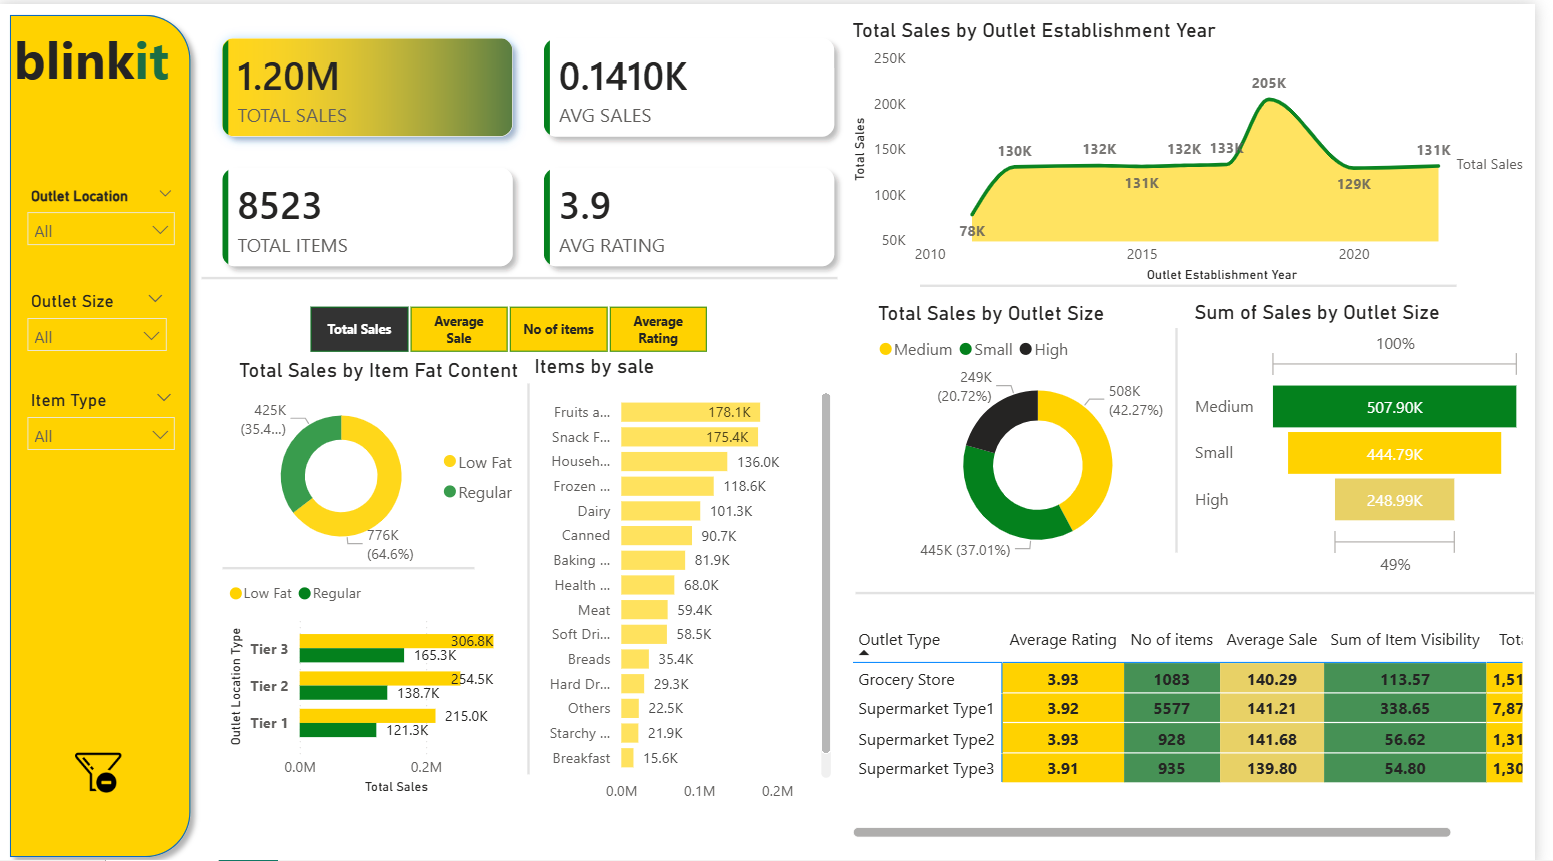

The dashboard page shown, as its layout file describes it:
{"tool":"powerbi","page":{"name":"Page 1","canvas":[1280,720],"ordinal":0},"visuals":[{"type":"shape","box":[0,0,168.6,720],"z":0},{"type":"textbox","box":[7.8,11.1,161.1,126.7],"z":1000},{"type":"cardVisual","fields":{"Data":["BlinkIT Grocery Data.Total Sales","BlinkIT Grocery Data.Average Sale","BlinkIT Grocery Data.No of items","BlinkIT Grocery Data.Average Rating"]},"box":[168.9,11.1,545.6,224.4],"z":2000},{"type":"shape","box":[170,228.6,528.6,474.3],"z":3000},{"type":"slicer","fields":{"Values":["Metrics.Metrics"]},"box":[233.3,244.4,380,50],"z":4000},{"type":"donutChart","fields":{"Y":["BlinkIT Grocery Data.Total Sales"],"Category":["BlinkIT Grocery Data.Item Fat Content"]},"box":[194.4,294.4,246.7,176.7],"z":5000},{"type":"clusteredBarChart","fields":{"Y":["BlinkIT Grocery Data.Total Sales"],"Category":["BlinkIT Grocery Data.Outlet Location Type"],"Series":["BlinkIT Grocery Data.Item Fat Content"]},"box":[186.7,471.1,244.4,191.1],"z":6000},{"type":"shape","box":[186.7,456.7,210,27.8],"z":7000},{"type":"shape","box":[335.7,315.7,210,325.7],"z":8000},{"type":"barChart","title":"  Items by sale","fields":{"Y":["BlinkIT Grocery Data.Total Sales"],"Category":["BlinkIT Grocery Data.Item Type"]},"box":[441.1,291.1,256.7,382.2],"z":9000},{"type":"lineChart","fields":{"Y":["BlinkIT Grocery Data.Total Sales"],"Category":["BlinkIT Grocery Data.Outlet Establishment Year"]},"box":[705.7,11.4,574.3,224.3],"z":10000},{"type":"shape","box":[767.1,221.4,447.1,27.1],"z":11000},{"type":"donutChart","fields":{"Category":["BlinkIT Grocery Data.Outlet Size"],"Y":["BlinkIT Grocery Data.Total Sales"]},"box":[727.1,247.1,275.7,224.3],"z":12000},{"type":"shape","box":[875.7,270,210,187.1],"z":13000},{"type":"funnel","fields":{"Y":["Sum(BlinkIT Grocery Data.Sales)"],"Category":["BlinkIT Grocery Data.Outlet Size"]},"box":[991.4,245.7,282.9,235.7],"z":14000},{"type":"shape","box":[714.3,484.3,565.7,14.3],"z":15000},{"type":"pivotTable","fields":{"Rows":["BlinkIT Grocery Data.Outlet Type"],"Values":["BlinkIT Grocery Data.Average Rating","BlinkIT Grocery Data.No of items","BlinkIT Grocery Data.Average Sale","Sum(BlinkIT Grocery Data.Item Visibility)","BlinkIT Grocery Data.Total Sales"]},"box":[705.7,511.4,568.6,188.6],"z":16000},{"type":"slicer","fields":{"Values":["BlinkIT Grocery Data.Outlet Location Type"]},"box":[14.3,147.1,142.9,74.3],"z":17000},{"type":"slicer","fields":{"Values":["BlinkIT Grocery Data.Outlet Size"]},"box":[14.3,234.3,135.7,57.1],"z":18000},{"type":"slicer","fields":{"Values":["BlinkIT Grocery Data.Item Type"]},"box":[14.3,315.7,142.9,67.1],"z":19000},{"type":"image","box":[60,621.4,45.7,38.6],"z":20000},{"type":"shape","box":[168.6,221.4,530,14.3],"z":21000}]}

Visuals, with their boxes in screenshot pixels (x1, y1, x2, y2), scaled from the page's 1280x720 canvas onto the 1553x861 screenshot:
shape: crop(0, 0, 205, 860)
textbox: crop(9, 13, 205, 165)
cardVisual - BlinkIT Grocery Data.Total Sales x BlinkIT Grocery Data.Average Sale: crop(205, 13, 867, 282)
shape: crop(206, 273, 848, 841)
slicer - Metrics.Metrics: crop(283, 292, 744, 352)
donutChart - BlinkIT Grocery Data.Total Sales x BlinkIT Grocery Data.Item Fat Content: crop(236, 352, 535, 563)
clusteredBarChart - BlinkIT Grocery Data.Total Sales x BlinkIT Grocery Data.Outlet Location Type: crop(227, 563, 523, 792)
shape: crop(227, 546, 481, 579)
shape: crop(407, 378, 662, 767)
"  Items by sale" barChart: crop(535, 348, 847, 805)
lineChart - BlinkIT Grocery Data.Total Sales x BlinkIT Grocery Data.Outlet Establishment Year: crop(856, 14, 1552, 282)
shape: crop(931, 265, 1473, 297)
donutChart - BlinkIT Grocery Data.Outlet Size x BlinkIT Grocery Data.Total Sales: crop(882, 295, 1217, 564)
shape: crop(1062, 323, 1317, 547)
funnel - Sum(BlinkIT Grocery Data.Sales) x BlinkIT Grocery Data.Outlet Size: crop(1203, 294, 1546, 576)
shape: crop(867, 579, 1552, 596)
pivotTable - BlinkIT Grocery Data.Outlet Type x BlinkIT Grocery Data.Average Rating: crop(856, 612, 1546, 837)
slicer - BlinkIT Grocery Data.Outlet Location Type: crop(17, 176, 191, 265)
slicer - BlinkIT Grocery Data.Outlet Size: crop(17, 280, 182, 348)
slicer - BlinkIT Grocery Data.Item Type: crop(17, 378, 191, 458)
image: crop(73, 743, 128, 789)
shape: crop(205, 265, 848, 282)
